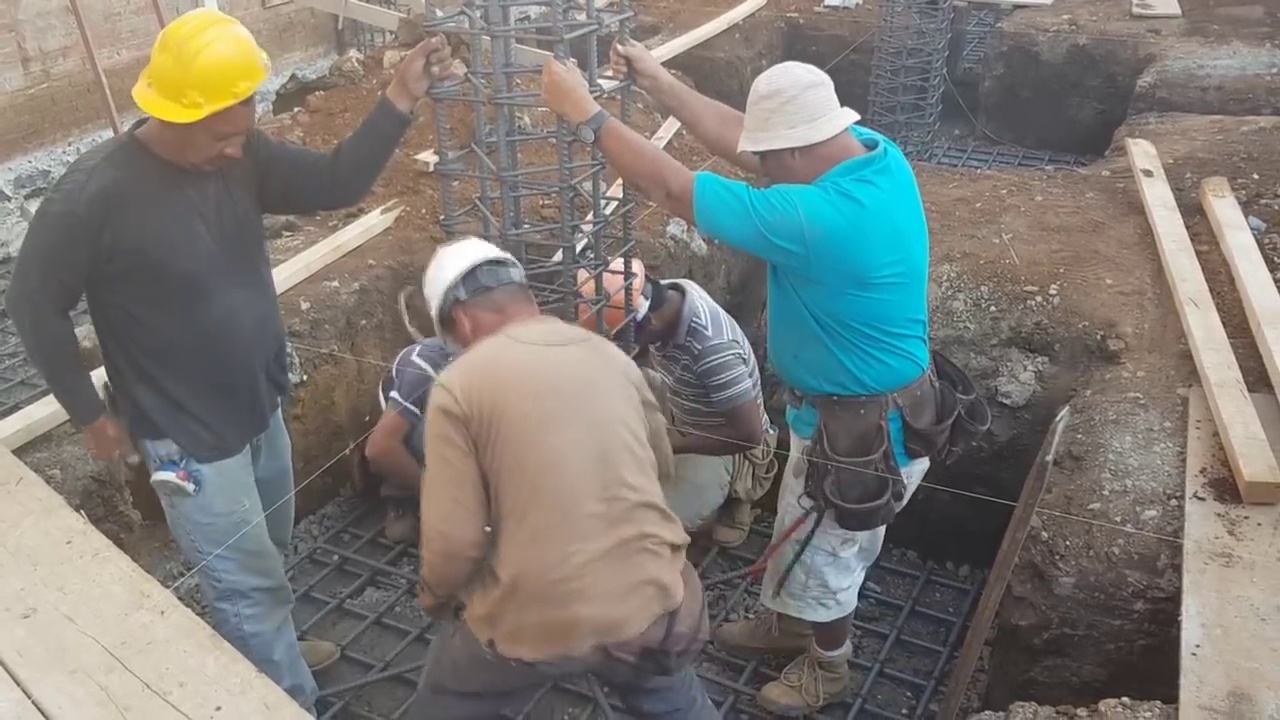helmet: (125, 6, 272, 124), (417, 232, 529, 342), (576, 256, 646, 340)
helmet-off: (728, 60, 873, 189)
helmet-on: (126, 6, 273, 176), (417, 229, 545, 352), (576, 253, 686, 347)
person: (3, 2, 456, 715), (545, 33, 935, 710), (419, 229, 715, 720), (573, 253, 774, 557)
